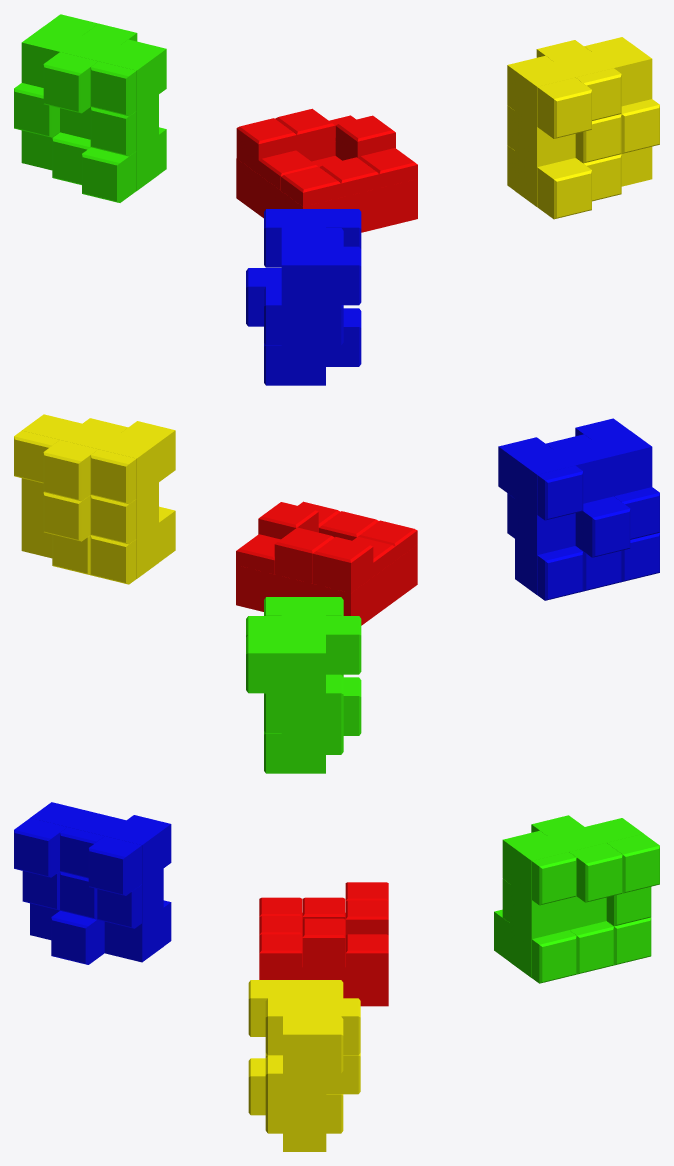
The model's file is stage_1.obj.
3 views of the same model, one above another, from view 1: azimuth 30°, elevation 25°; view 2: azimuth 150°, elevation 25°; view 3: azimuth 270°, elevation 25° (orthographic). The views are drawn at different scales.
Parts seen in each view (by area): view 1: object_1, object_2, object_3, object_4; view 2: object_3, object_2, object_1, object_4; view 3: object_1, object_3, object_2, object_4.
Boxes of the visible parts, left/top/right/bottom form: object_1: left=14, top=14, right=166, bottom=202; object_2: left=507, top=37, right=659, bottom=219; object_3: left=246, top=209, right=361, bottom=385; object_4: left=236, top=108, right=417, bottom=232; object_3: left=498, top=418, right=659, bottom=600; object_2: left=14, top=414, right=175, bottom=584; object_1: left=246, top=597, right=361, bottom=773; object_4: left=236, top=501, right=417, bottom=625; object_1: left=494, top=815, right=659, bottom=983; object_3: left=14, top=802, right=171, bottom=964; object_2: left=248, top=980, right=360, bottom=1151; object_4: left=259, top=882, right=388, bottom=1006.
Size of the model in its own units: 65.37 by 15 by 74.87.
